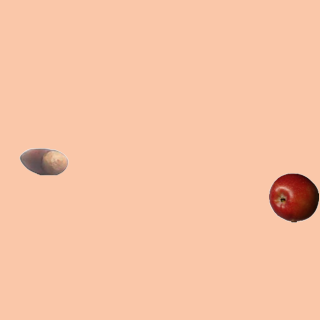Apple Braeburn: (268, 172, 318, 222)
Hazelnut: (18, 136, 68, 186)
